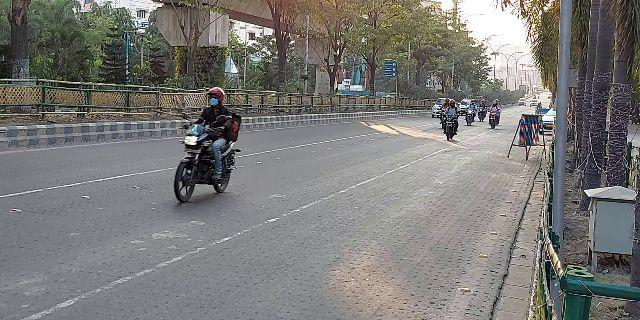Motorbike: (168, 87, 240, 207), (438, 96, 458, 144), (487, 97, 503, 131), (464, 98, 476, 130)
